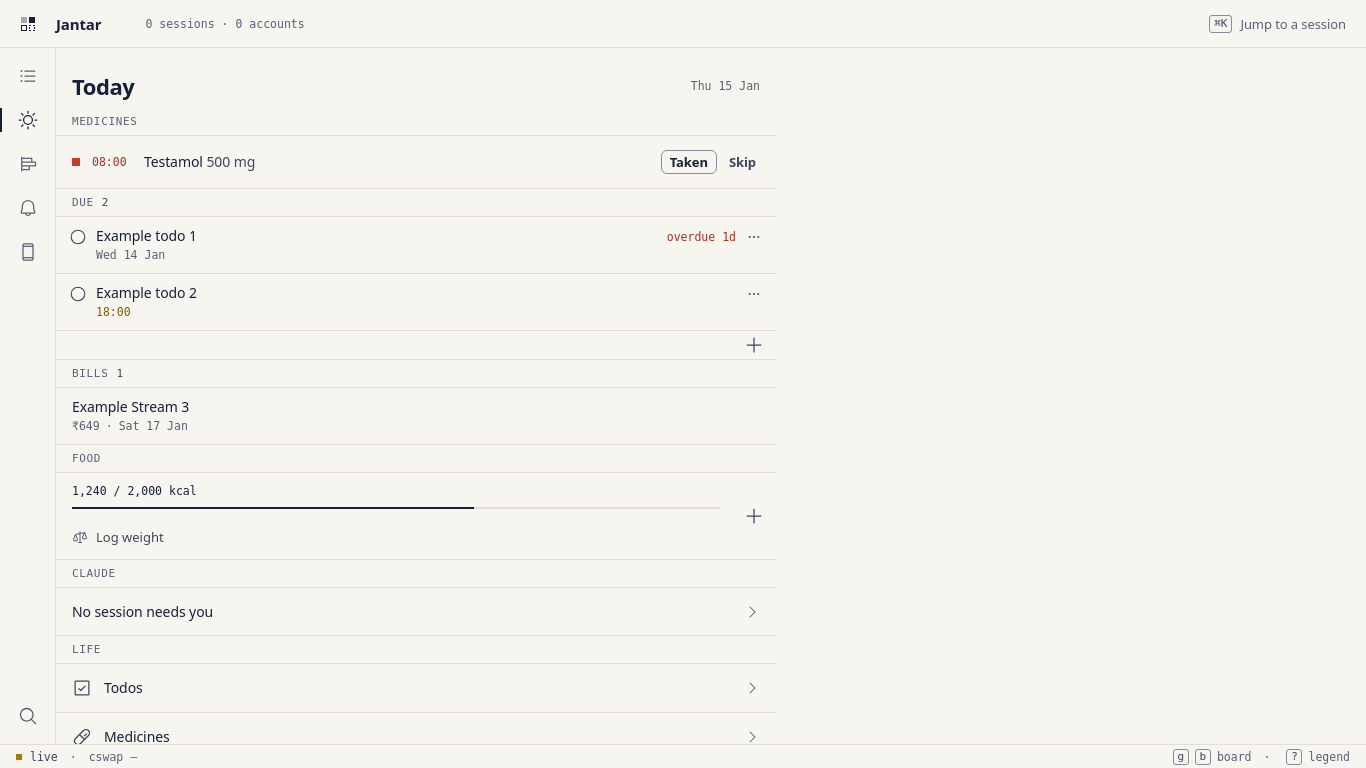
Today: sections › shows a failed Done as Not saved
Click the button named "Mark done: Example todo 2".
click(78, 294)  # box [64,280,92,308]
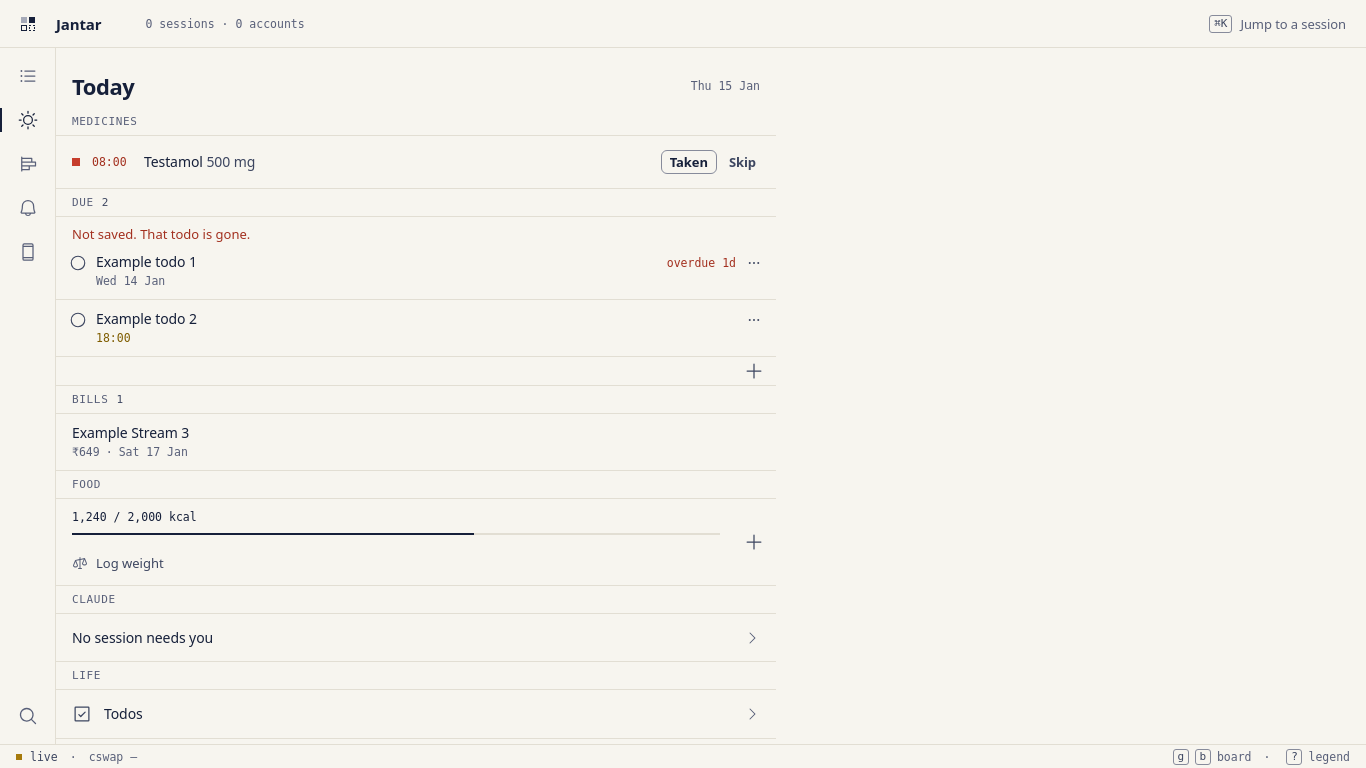
Check: the message "Not saved. That todo is gone." is shown, box [72,225,250,243]
